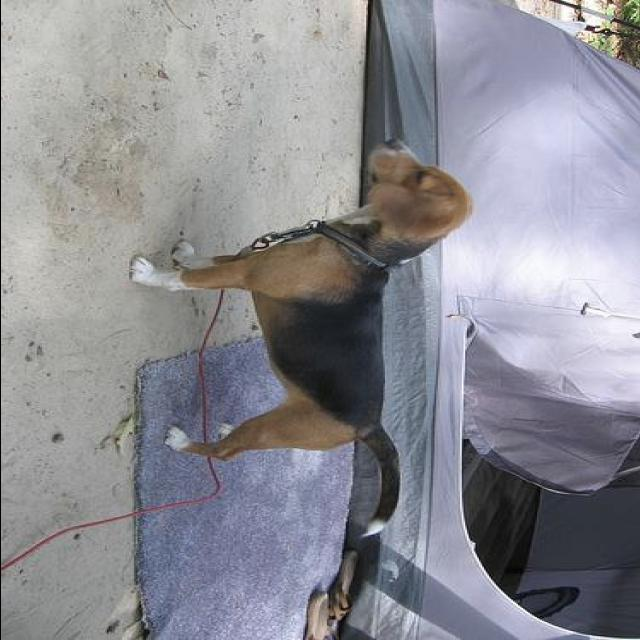beagle: (124, 136, 474, 536)
